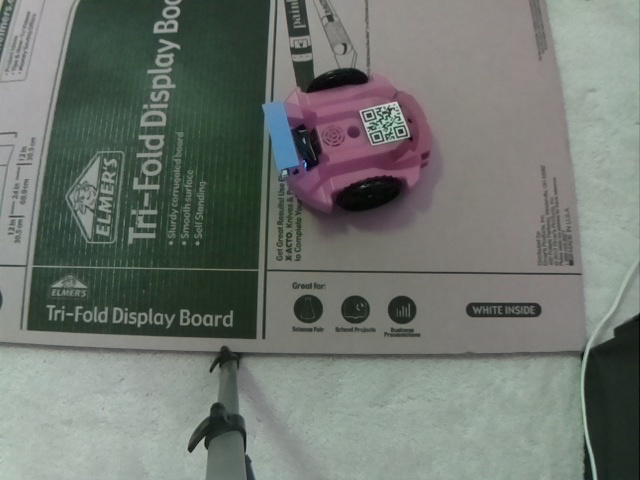board: (259, 103, 325, 177)
chassis: (258, 56, 444, 222)
